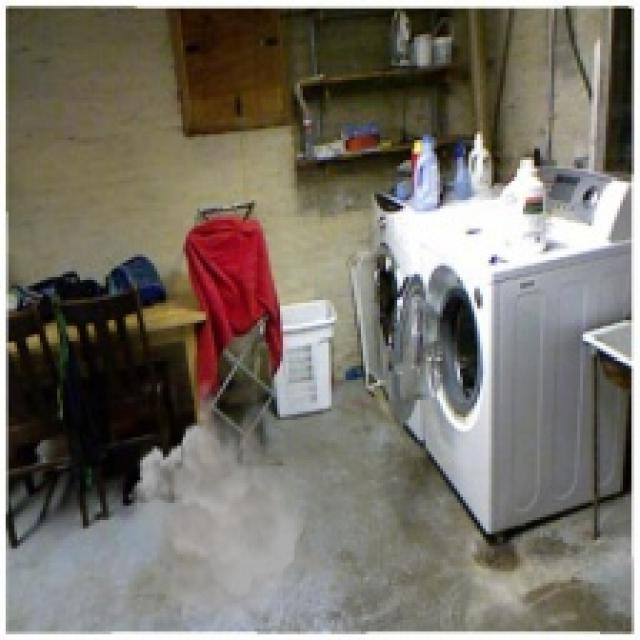Smoke: (128, 374, 332, 632)
